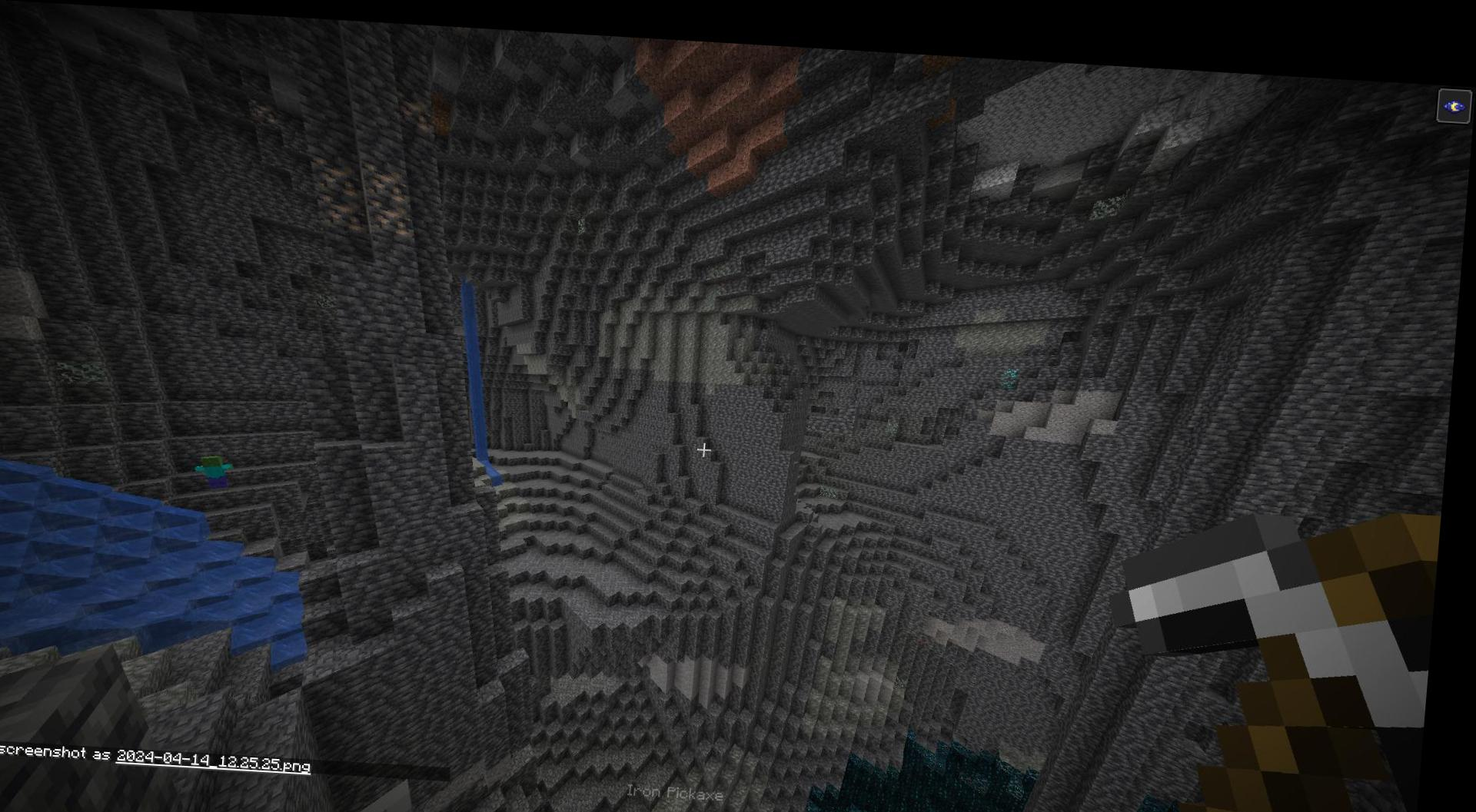diamond ore: (1005, 353, 1025, 377)
iron ore: (313, 152, 373, 230), (362, 161, 420, 233), (396, 93, 436, 127), (249, 95, 281, 125)
